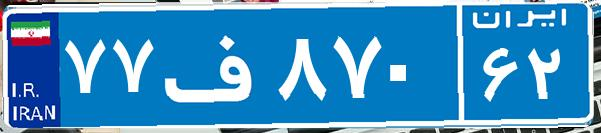0: (385, 28, 445, 110)
2: (525, 38, 570, 115)
6: (475, 38, 525, 113)
7: (330, 28, 385, 110), (57, 26, 110, 107), (110, 28, 158, 105)
8: (273, 28, 330, 110)
ف: (158, 15, 273, 115)
